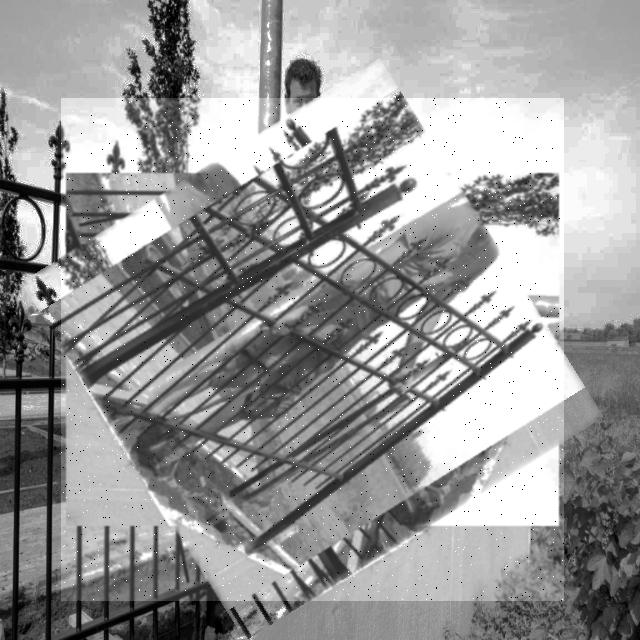anomaly-fence: (61, 98, 564, 601)
